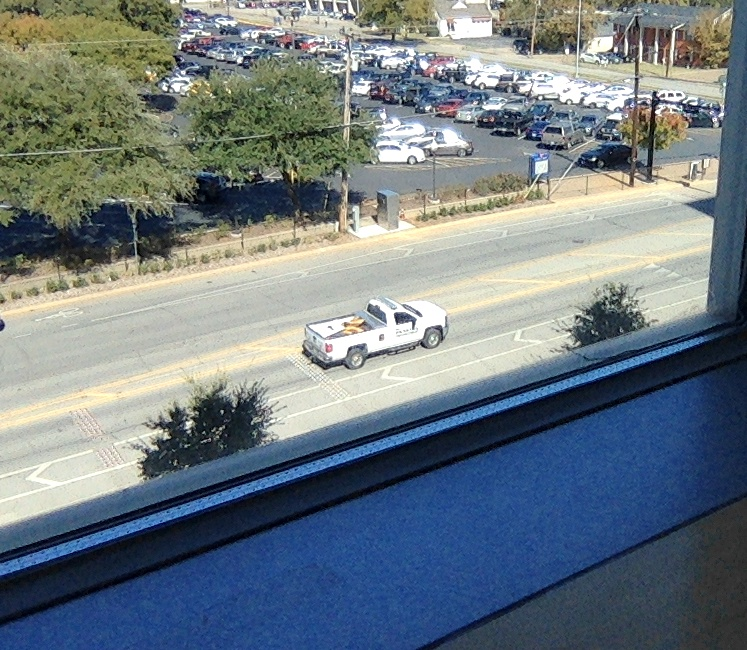car: (300, 300, 447, 372)
